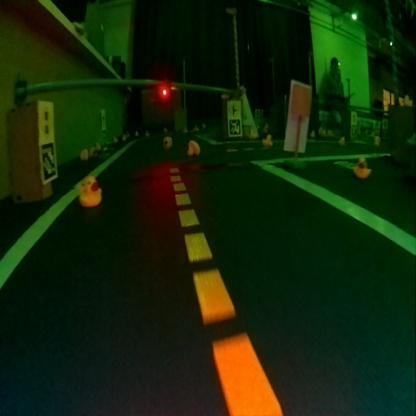Duckie: (80, 179, 100, 206), (355, 160, 370, 177), (187, 142, 198, 154), (262, 136, 272, 145), (165, 139, 172, 148), (80, 150, 86, 158), (340, 136, 344, 144)
Intersection sign: (228, 102, 239, 116)
QR code: (41, 143, 55, 180), (228, 119, 241, 135)
Traffic light: (161, 80, 168, 96)
